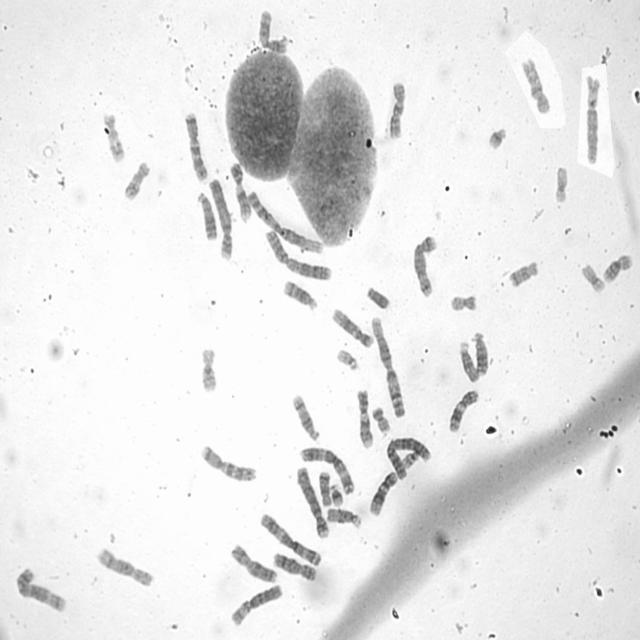A1: (245, 186, 326, 256), (369, 313, 408, 419)
A2: (263, 225, 334, 282), (384, 434, 432, 481)
A3: (257, 508, 323, 568), (298, 443, 356, 496)
B4: (294, 462, 332, 540), (206, 174, 235, 262)
B5: (13, 564, 68, 614), (411, 231, 440, 299)
C10: (518, 54, 552, 115), (386, 77, 408, 140)
C11: (446, 386, 481, 433), (256, 6, 288, 54)
C12: (329, 303, 375, 349), (368, 467, 398, 517)
C6: (228, 580, 284, 628), (582, 72, 603, 166)
C7: (198, 440, 258, 483), (182, 109, 210, 183)
C8: (94, 544, 156, 590), (270, 548, 319, 582)
C9: (227, 160, 252, 222), (354, 385, 376, 450)
D13: (194, 188, 218, 242), (470, 328, 490, 376)
D14: (289, 389, 321, 443), (280, 276, 320, 311)
D15: (457, 338, 481, 383), (324, 503, 363, 529)
E16: (197, 343, 219, 394), (600, 250, 634, 283)
E17: (100, 109, 127, 164), (121, 157, 151, 201)
E18: (507, 256, 540, 288), (316, 468, 333, 507)
F19: (579, 260, 607, 294), (553, 162, 570, 205)
F20: (369, 402, 392, 434), (448, 290, 479, 312)
G21: (486, 124, 508, 151), (328, 479, 345, 508)
G22: (334, 345, 360, 371), (396, 450, 422, 473)
X: (229, 540, 280, 584)
Y: (364, 282, 391, 310)
